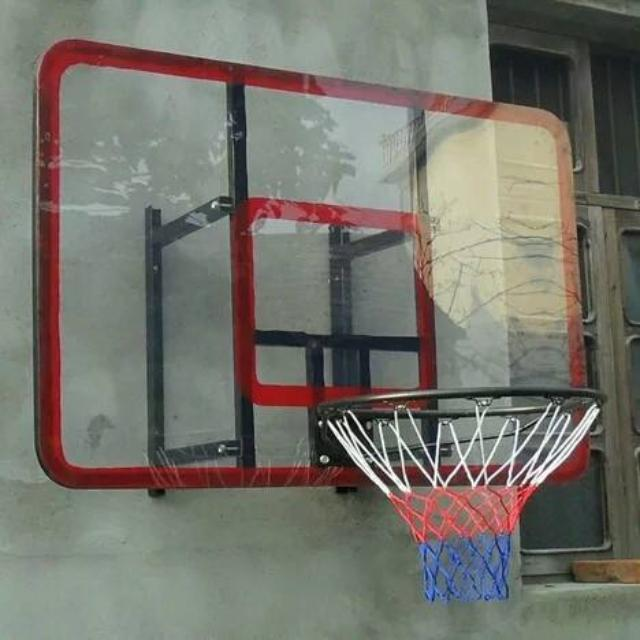rim: (322, 386, 606, 596)
